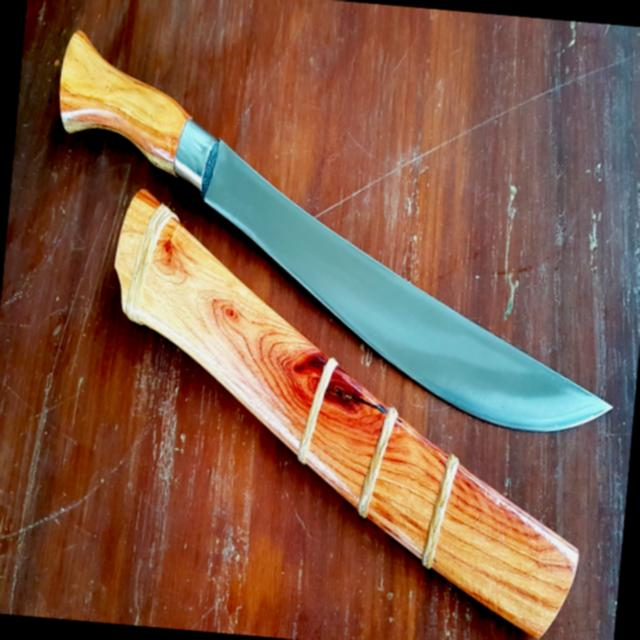short sword: (5, 17, 640, 640)
